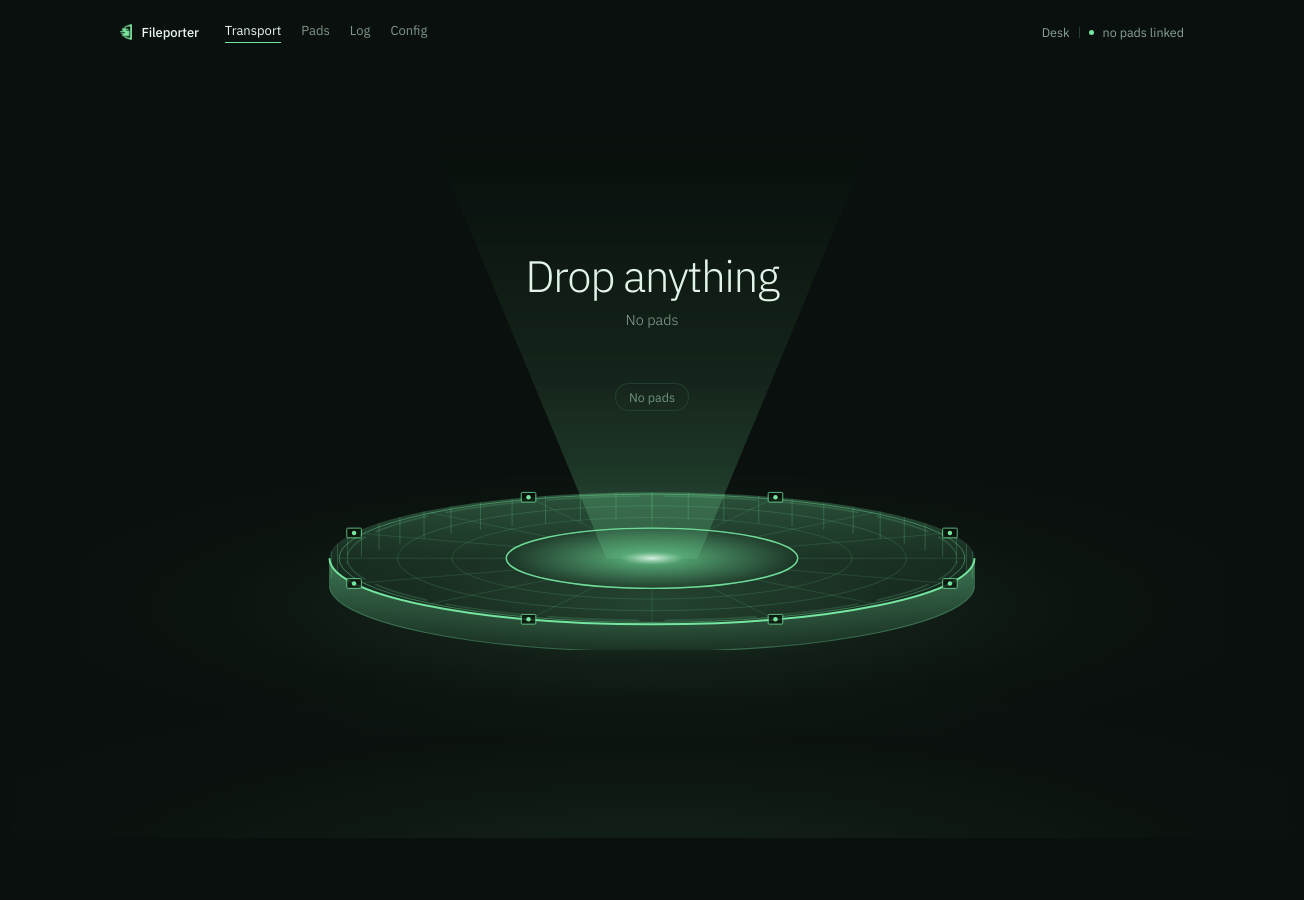
stages picker paths when no pad is selected
Expected: the text "Desk" is shown, [1042, 24, 1070, 40]
Click the button named "Send files or folders".
click(652, 451)  # box [12, 64, 1292, 838]
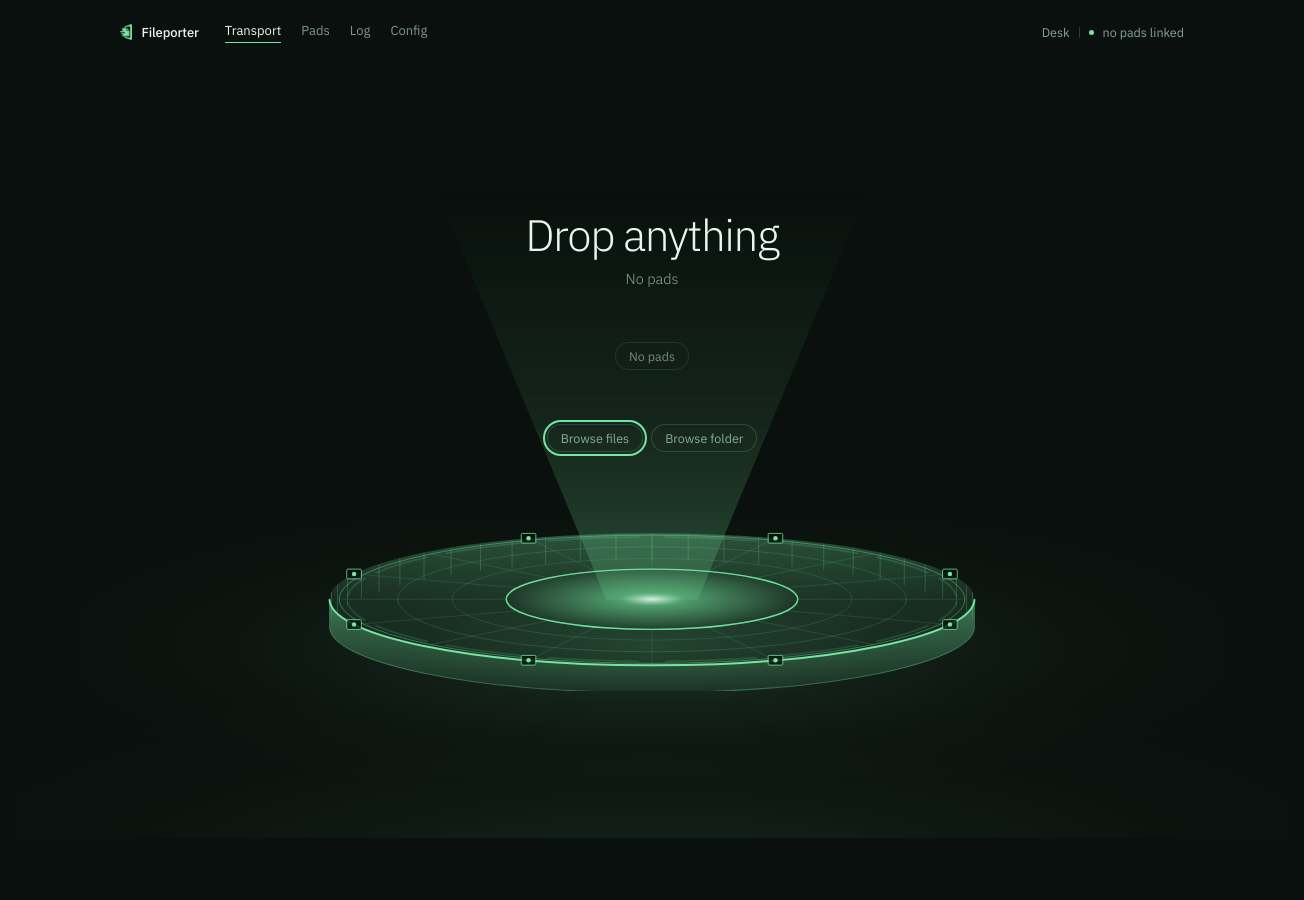
Click the menu item "Browse files".
click(595, 438)  # box [547, 424, 643, 452]
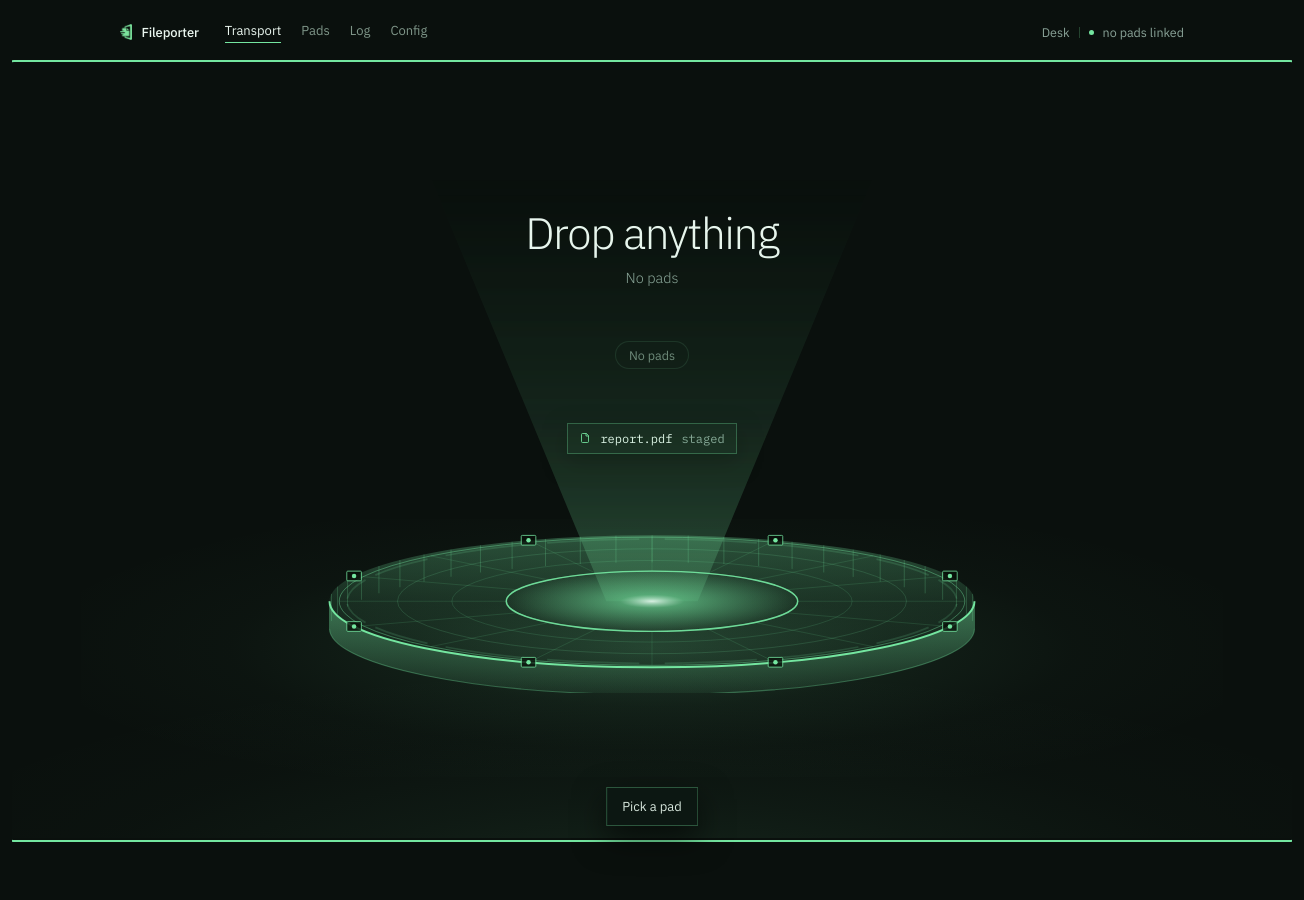
Result: the text "Pick a pad" is shown at [622, 798, 682, 815]
Result: the text "report.pdf" is shown at [600, 431, 672, 446]
